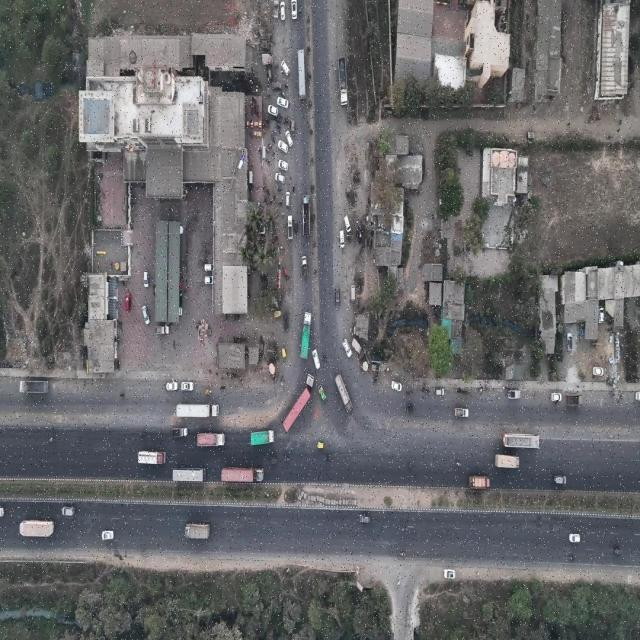3W: (406, 403, 414, 416), (283, 318, 289, 334), (316, 441, 326, 450), (281, 344, 287, 359), (283, 309, 290, 320), (270, 456, 278, 465), (614, 548, 623, 556), (274, 310, 282, 318)
Bus: (171, 466, 206, 482)
Cars: (141, 304, 151, 326), (341, 340, 353, 358), (312, 349, 321, 371), (267, 101, 278, 118), (61, 504, 75, 517), (554, 473, 568, 486), (278, 138, 289, 154), (277, 94, 289, 108), (358, 512, 372, 524), (284, 130, 294, 146), (101, 530, 114, 542), (166, 380, 179, 392), (390, 380, 403, 392), (278, 157, 289, 171), (566, 333, 574, 352), (280, 0, 286, 24), (335, 286, 341, 310), (592, 366, 604, 378), (281, 62, 290, 77), (344, 214, 351, 233), (181, 381, 194, 391), (125, 293, 131, 314), (568, 534, 582, 543), (551, 391, 562, 402), (444, 568, 455, 579), (292, 0, 298, 20), (275, 172, 285, 184), (350, 284, 356, 304), (339, 230, 345, 249), (144, 268, 149, 289), (204, 261, 214, 271), (284, 191, 290, 207), (271, 81, 281, 90), (434, 387, 444, 396), (599, 307, 604, 324), (204, 275, 213, 284)
LCV: (154, 324, 170, 336), (172, 426, 188, 438), (317, 383, 327, 402), (301, 254, 308, 279), (288, 214, 294, 240), (456, 407, 468, 418), (273, 0, 279, 18), (508, 391, 521, 399)
M2W: (398, 548, 406, 558), (48, 435, 55, 443), (139, 430, 146, 438), (455, 460, 463, 467), (140, 550, 147, 557), (284, 455, 290, 463), (118, 391, 125, 397), (324, 454, 331, 460), (570, 554, 574, 562)
MAV: (280, 372, 316, 436), (220, 465, 265, 483), (176, 403, 220, 418)
Truck: (334, 372, 355, 416), (18, 518, 56, 538), (502, 431, 540, 451), (296, 48, 307, 103), (300, 310, 312, 360), (19, 376, 49, 394), (196, 430, 225, 448), (495, 452, 520, 472), (337, 56, 347, 106), (185, 522, 211, 541), (136, 451, 166, 465), (302, 194, 312, 236), (250, 430, 274, 447), (468, 474, 490, 488), (566, 393, 582, 406)
